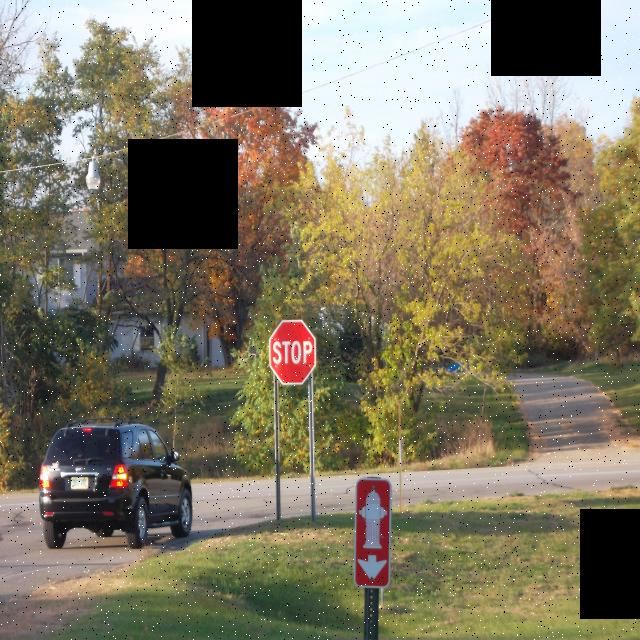stop: (262, 311, 326, 399)
